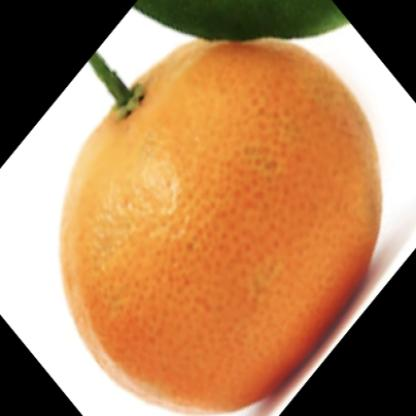fresh: (63, 37, 381, 416)
